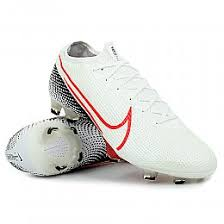nike: (50, 52, 133, 155)
